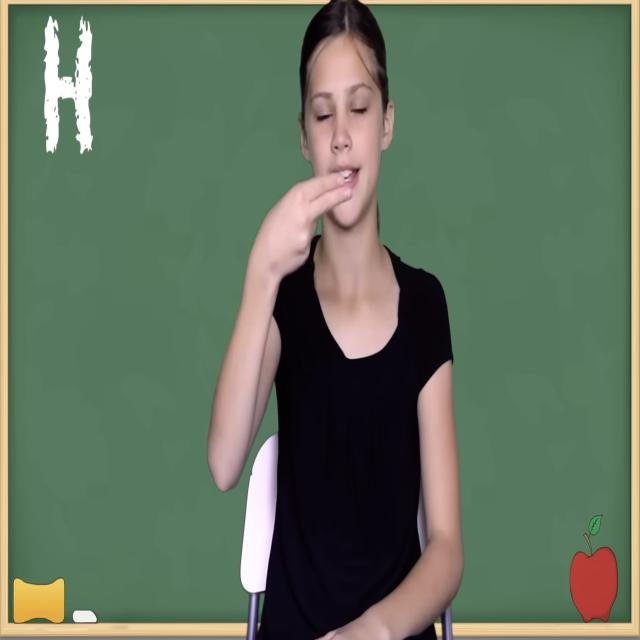H: (247, 161, 357, 294)
